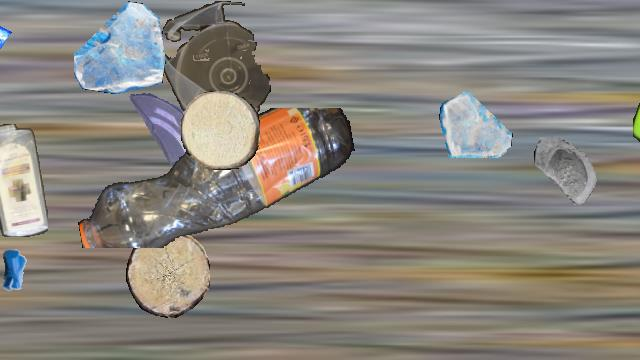glass: (74, 1, 166, 93), (125, 89, 209, 173), (533, 137, 609, 213), (439, 88, 513, 162), (0, 1, 12, 83)
metal: (0, 241, 46, 303)
plastic: (73, 108, 357, 248), (160, 1, 272, 133), (0, 124, 47, 236), (633, 56, 640, 188)
wood: (126, 232, 210, 318), (181, 91, 259, 169)
